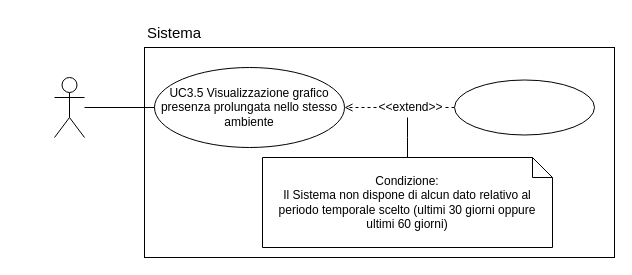
This 632x275 diagram has some shape labels left out. The centre of each missing label's shape, as x and y in pixels:
"Operatore Sanitario" goes at point 69,107.
"UC7 Errore dati insufficienti" goes at point 524,107.
